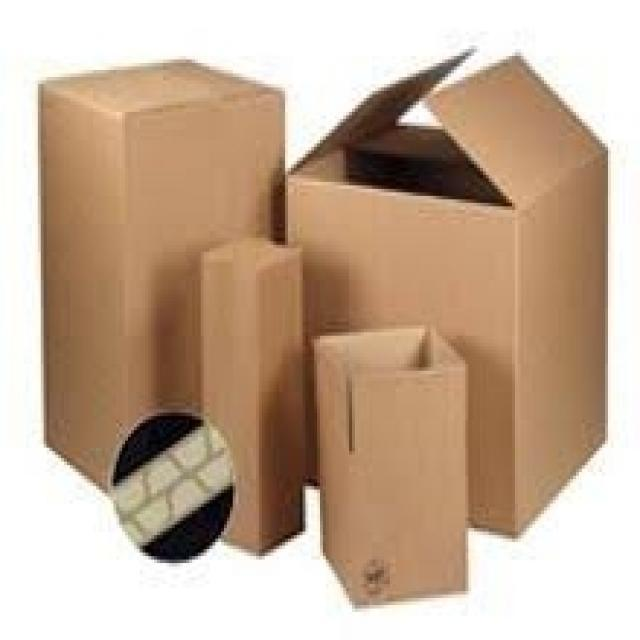cardboard paper: (288, 50, 606, 532), (39, 60, 283, 486), (313, 326, 465, 602), (200, 238, 303, 550)
